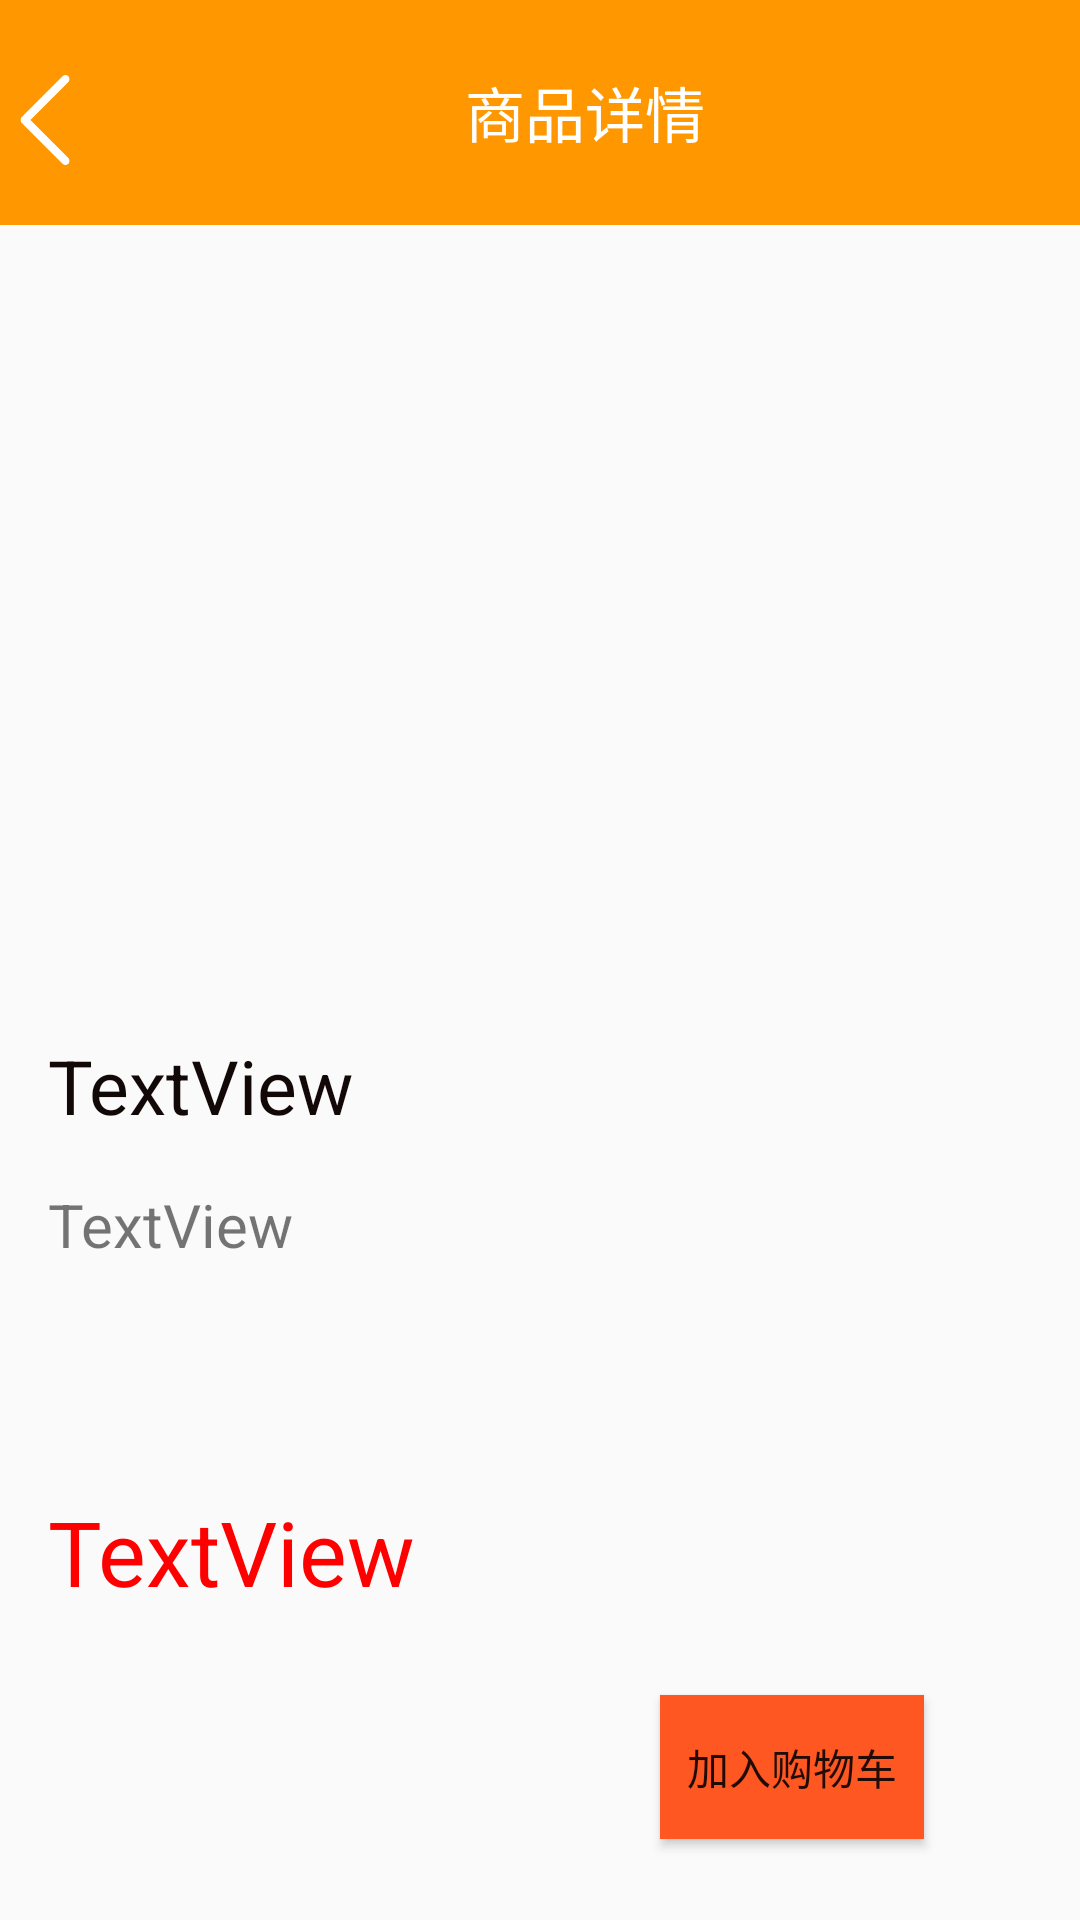

Where to tap for icons on this 1080 x 1920 app screen, as (x=x, y=y):
arrow back: (x=45, y=120)
